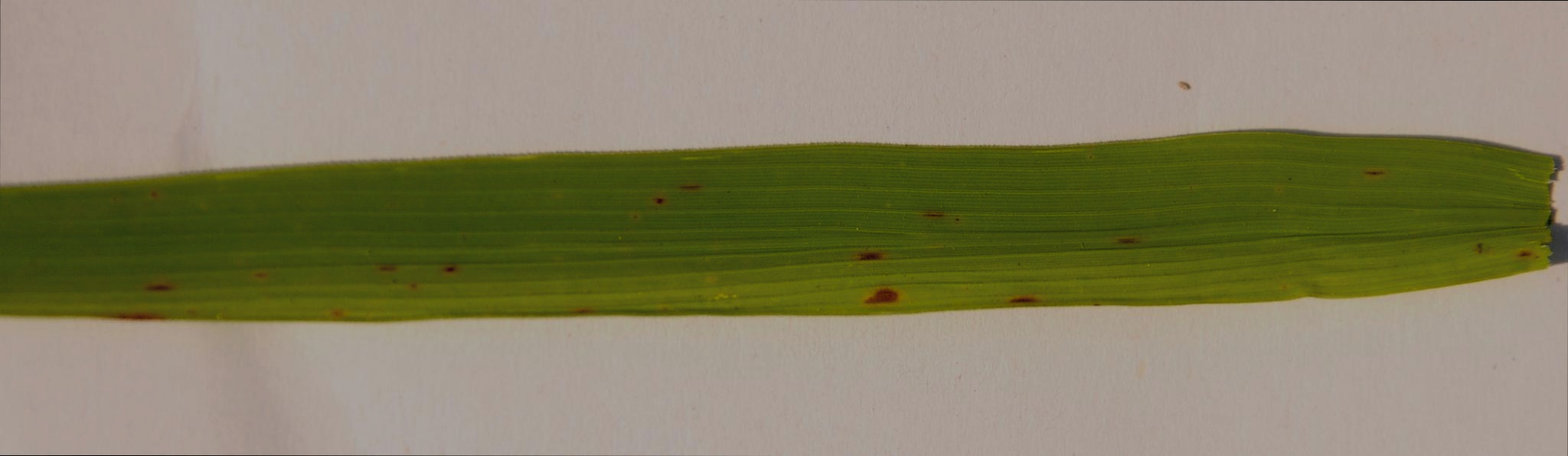Bacterial_Leaf_Blight: (831, 220, 934, 312), (642, 166, 716, 211), (360, 260, 476, 282), (1000, 274, 1045, 319), (1107, 228, 1165, 253), (140, 269, 176, 302)
